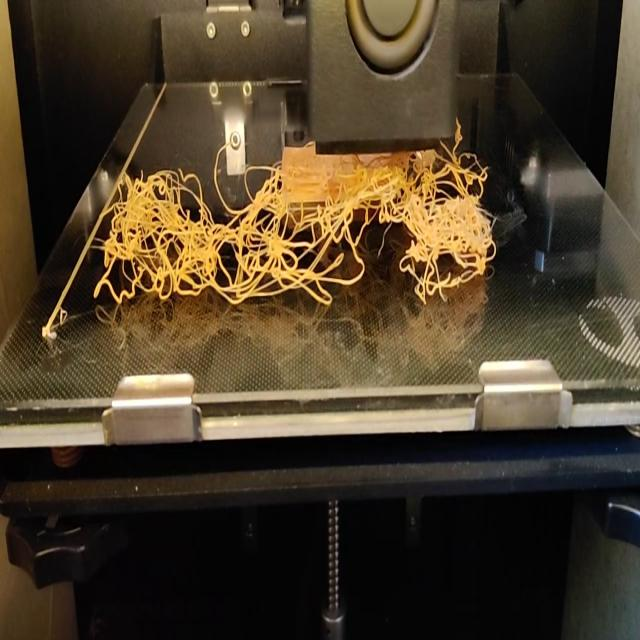spaghetti: (95, 153, 503, 306)
